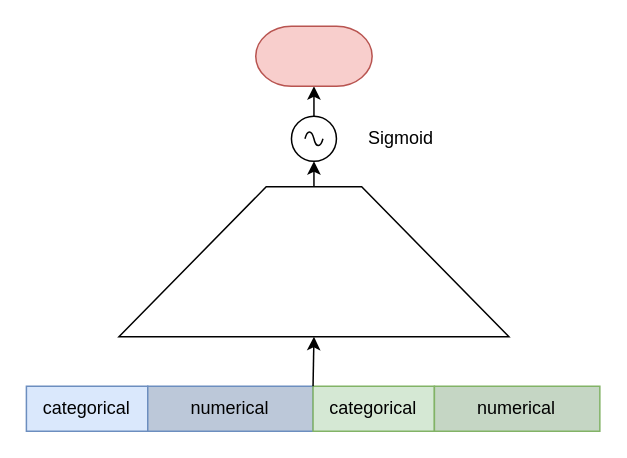
Image size: 627x458. Some labels were removed from this diagram. Each missing label, with the centre of its shape:
dec_probs: the point at 313,55
DNN: the point at 313,261
